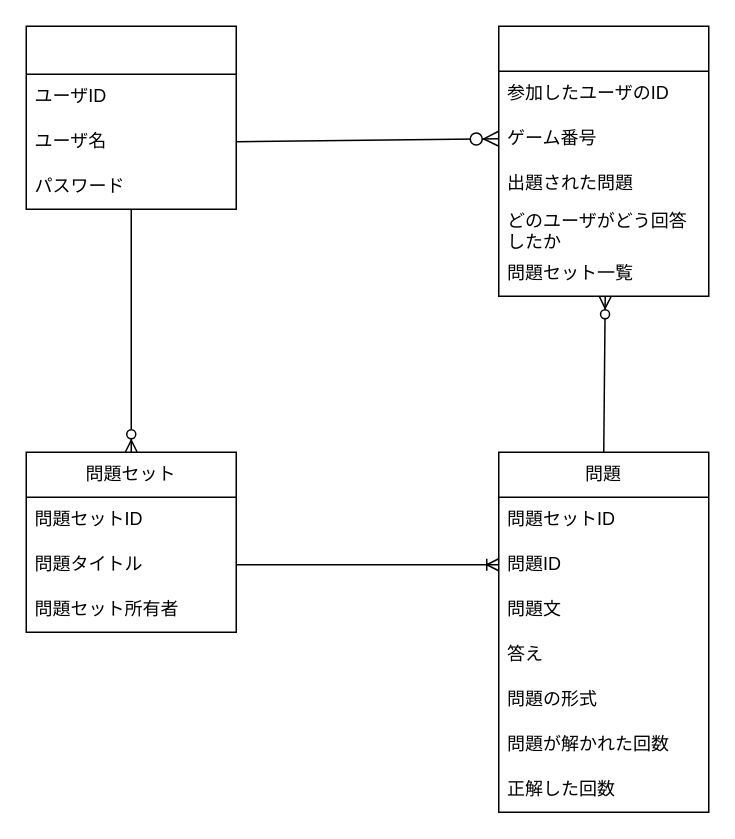
Some shapes in this 735 by 839 pixel diagram are drawn without their labels. Each missing label, with the box of its shape:
アカウント: (25, 25, 236, 209)
ゲームのログ: (497, 25, 709, 296)
